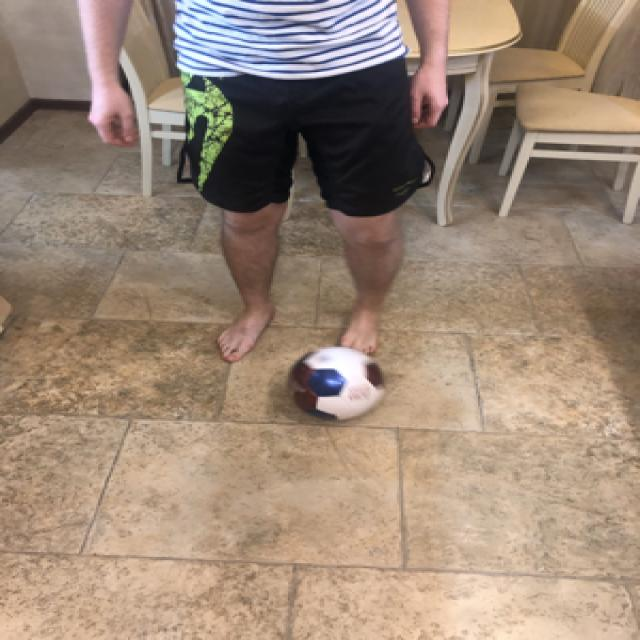soccer_ball: (282, 344, 386, 422)
